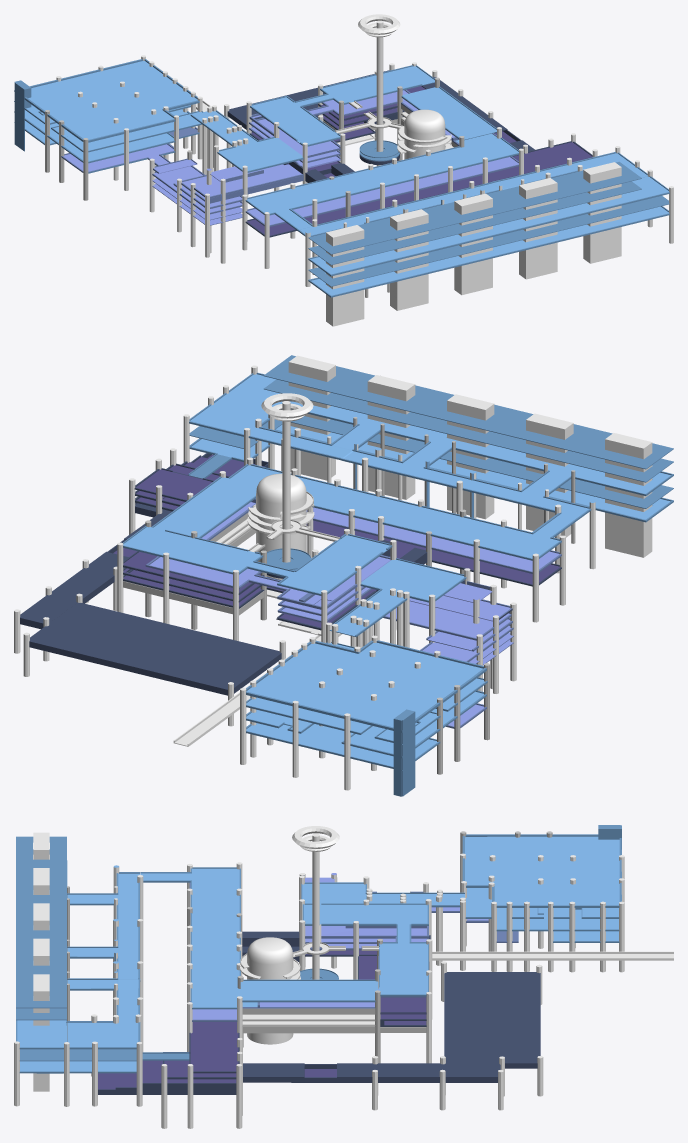
Rendered from Walls.fbx.
The picture shows the model from 3 angles, top to bottom: view 1: azimuth 30°, elevation 25°; view 2: azimuth 150°, elevation 25°; view 3: azimuth 270°, elevation 25°; orthographic projection. The views are drawn at different scales.
Visible parts, largest first — view 1: Walls; view 2: Walls; view 3: Walls.
Boxes of the visible parts, x1,y1,x2,y2 form: Walls: (14,14,673,326); Walls: (14,355,673,796); Walls: (14,825,673,1128).
Bounding box in the file's own units: 76259 × 36493 × 98504.
